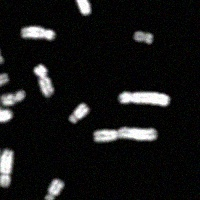chromosome: (94, 127, 157, 142), (119, 92, 169, 108), (35, 65, 53, 96), (0, 148, 13, 188), (63, 0, 91, 16), (21, 27, 55, 40), (44, 177, 63, 200), (70, 103, 90, 124), (0, 72, 9, 113), (1, 91, 27, 105), (0, 93, 11, 123), (133, 31, 153, 44), (0, 46, 4, 65)
